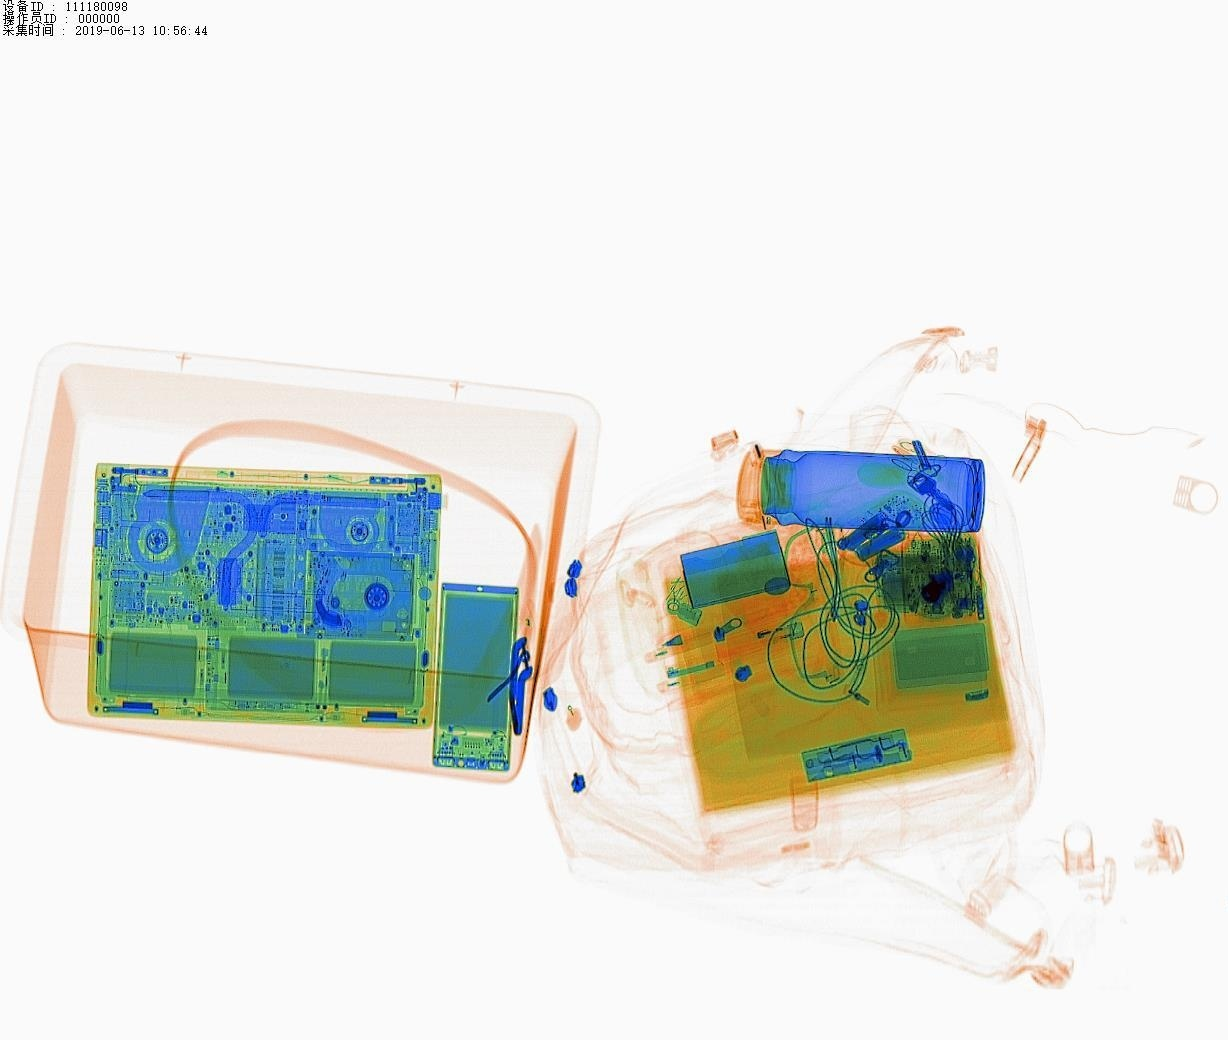NonmetallicFire: (688, 609, 834, 681)
